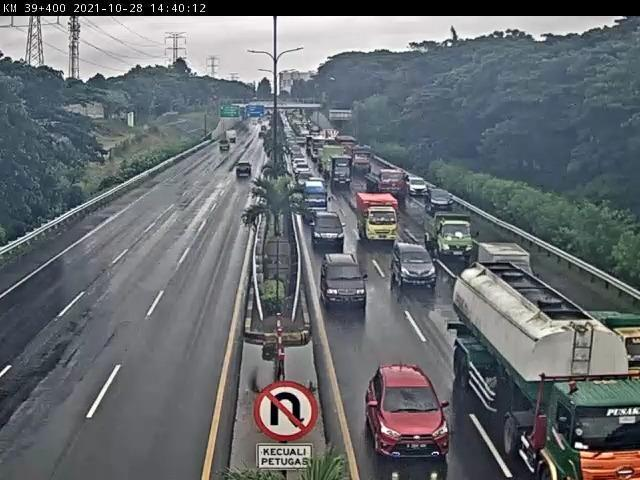bus: (304, 177, 331, 211)
car: (363, 359, 456, 464), (318, 250, 376, 309), (389, 238, 442, 292), (311, 209, 348, 247), (426, 183, 454, 213), (405, 173, 430, 198), (235, 161, 253, 177), (297, 169, 315, 183)
truck: (451, 266, 640, 480), (582, 307, 640, 373), (420, 210, 478, 261), (352, 189, 403, 243), (476, 237, 535, 278), (359, 162, 404, 196)
